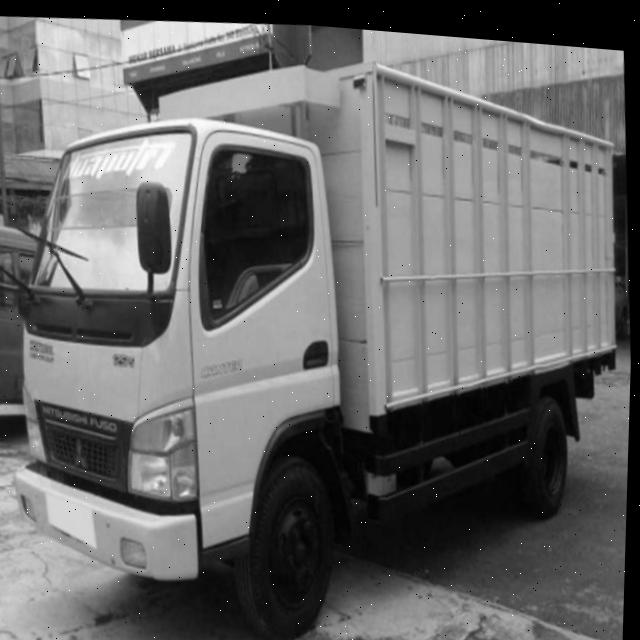truck: (1, 30, 388, 620)
